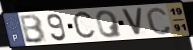9: (47, 13, 68, 42)
B: (19, 13, 48, 44)
C: (71, 9, 98, 42), (144, 6, 173, 36)
Q: (95, 9, 124, 39)
V: (120, 7, 144, 37)
